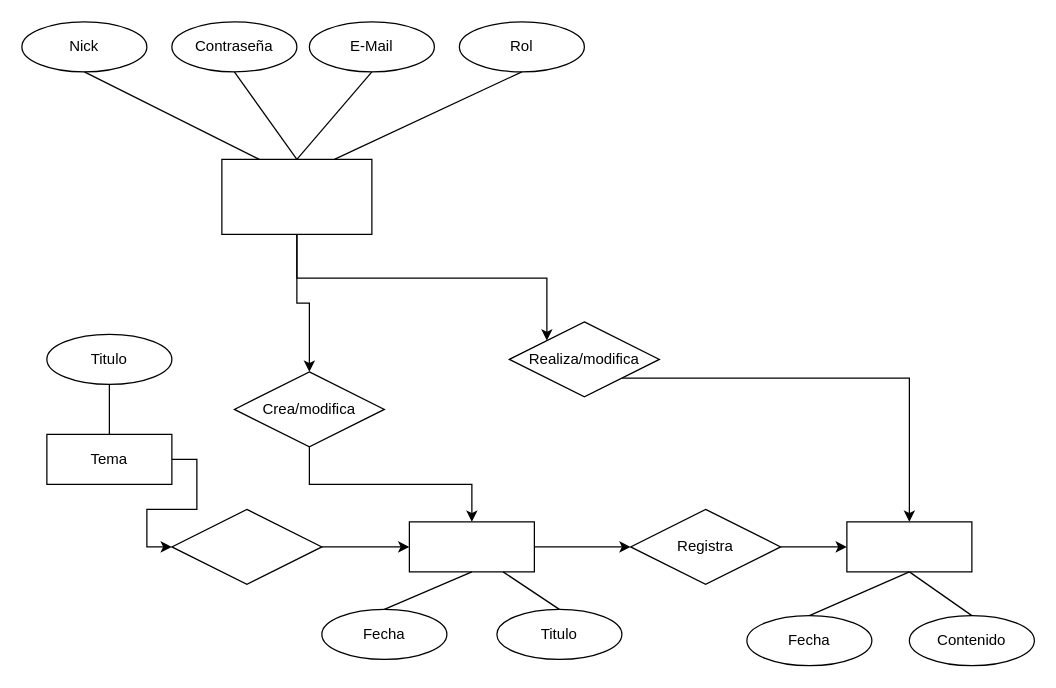
The diagram is 1056 pixels wide and 688 high, and some of its shapes have lost their labels. The shapes that lost their labels are listed below. From the top down, each one's box as (x1, y1, x2, y2) in pixels, then its label:
(221, 158, 372, 234): Usuario
(171, 508, 322, 584): Contiene
(408, 521, 534, 572): Hilo
(846, 521, 972, 572): Respuestas
